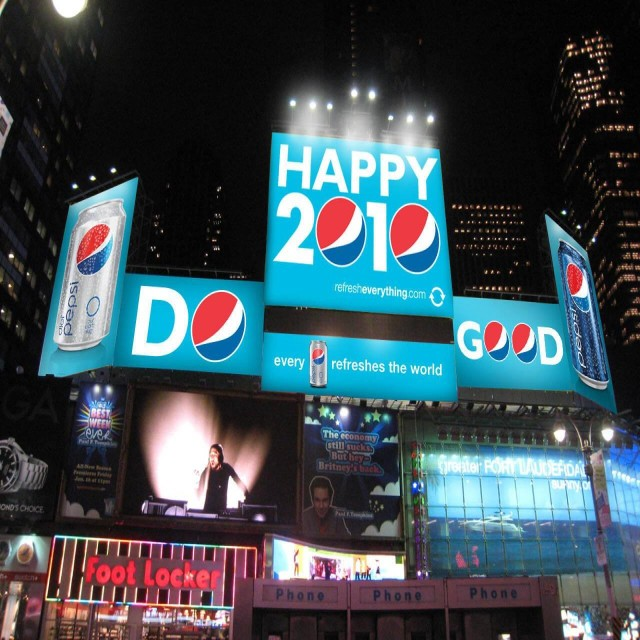pepsi: (190, 290, 249, 362), (389, 203, 447, 275), (317, 197, 367, 264), (74, 222, 116, 276), (566, 264, 594, 315), (512, 320, 538, 364), (484, 322, 509, 356), (312, 348, 326, 367)
